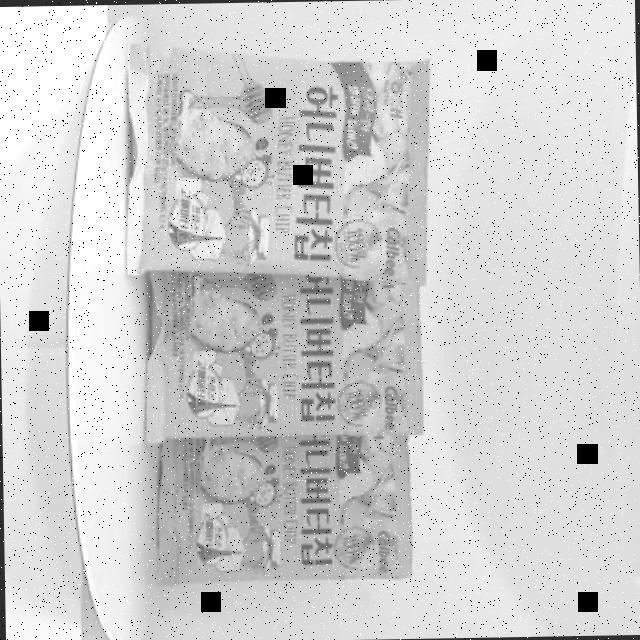snack_bag: (116, 31, 448, 598)
